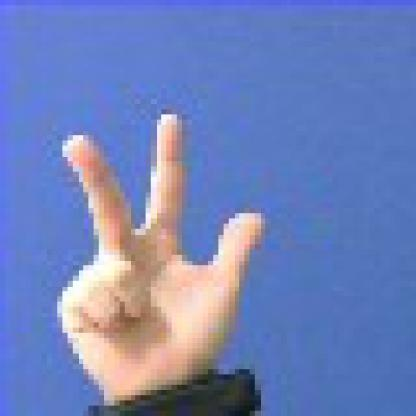eight: (26, 99, 291, 411)
